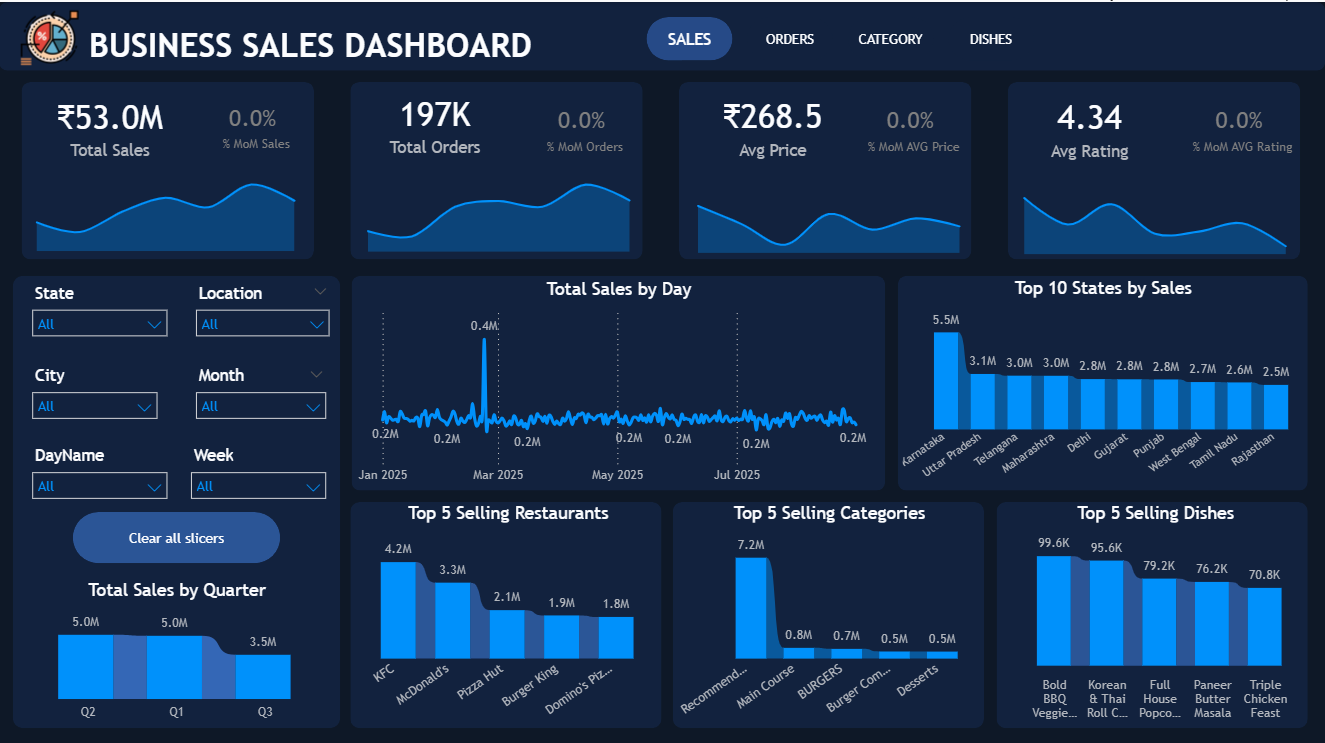

The dashboard page shown, as its layout file describes it:
{"tool":"powerbi","page":{"name":"SALES","canvas":[1280,720],"ordinal":0},"visuals":[{"type":"shape","box":[0,0,1280,66.4],"z":0},{"type":"shape","box":[21.7,77,282.3,171.3],"z":1000},{"type":"shape","box":[340.2,264.2,515.2,207.5],"z":2000},{"type":"shape","box":[867.4,264.2,395.7,207.5],"z":3000},{"type":"shape","box":[13.3,264.2,316.1,436.7],"z":4000},{"type":"shape","box":[339,77,282.3,171.3],"z":5000},{"type":"shape","box":[656.3,77,282.3,171.3],"z":6000},{"type":"shape","box":[973.6,77,282.3,171.3],"z":7000},{"type":"shape","box":[339,482.6,300.4,218.4],"z":8000},{"type":"shape","box":[650.9,482.6,300.4,218.4],"z":9000},{"type":"shape","box":[962.7,482.6,300.4,218.4],"z":10000},{"type":"card","fields":{"Values":["Sum(Business_sales_Data.Price)"]},"box":[21.7,77.2,171.3,85.7],"z":11000},{"type":"lineChart","fields":{"Y":["Business_sales_Data.Total Orders"],"Category":["Date_table.Week"]},"box":[341.5,160.3,282.3,85.7],"z":12000},{"type":"card","fields":{"Values":["Business_sales_Data.Total Orders"]},"box":[341.7,74.1,159.2,86.4],"z":13000},{"type":"lineChart","fields":{"Category":["Date_table.Week"],"Y":["Business_sales_Data.AVG PRICE"]},"box":[659.4,161.6,282.3,85.7],"z":14000},{"type":"card","fields":{"Values":["Business_sales_Data.AVG PRICE"]},"box":[660,75.5,174.3,86.4],"z":15000},{"type":"lineChart","fields":{"Y":["Avg(Business_sales_Data.Rating)"],"Category":["Date_table.Week"]},"box":[975.4,162.9,282.3,85.7],"z":16000},{"type":"card","fields":{"Values":["Business_sales_Data.AVG RATING"]},"box":[975.6,76.8,153.7,86.4],"z":17000},{"type":"card","fields":{"Values":["DAX Table.% MoM"]},"box":[193,77.2,111,84.5],"z":18000},{"type":"lineChart","fields":{"Category":["Date_table.Week"],"Y":["DAX Table.Total Sales"]},"box":[22,160.5,278.6,85.1],"z":19000},{"type":"card","fields":{"Values":["DAX Table.% MoM Orders"]},"box":[510.5,79.6,111.1,83.7],"z":20000},{"type":"card","fields":{"Values":["DAX Table.% MoM AVG Price"]},"box":[827.4,79.6,111.1,83.7],"z":21000},{"type":"card","fields":{"Values":["DAX Table.% MoM AVG Rating"]},"box":[1144.4,79.6,111.1,83.7],"z":22000},{"type":"textbox","box":[30.2,0,540.7,65.9],"z":23000},{"type":"image","box":[13.7,4.1,71.4,61.7],"z":24000},{"type":"columnChart","title":"Top 10 States by Sales","fields":{"Y":["DAX Table.Total Sales"],"Category":["Business_sales_Data.State"]},"box":[867.4,265.4,396.9,206.3],"z":25000},{"type":"lineChart","title":"Total Sales by Day","fields":{"Y":["DAX Table.Total Sales"],"Category":["Business_sales_Data.Order_Date"]},"box":[341.4,266.6,513.9,206.3],"z":26000},{"type":"slicer","fields":{"Values":["Business_sales_Data.Location"]},"box":[179.8,266.6,149.6,79.6],"z":27000},{"type":"columnChart","title":"Top 5 Selling Restaurants","fields":{"Y":["DAX Table.Total Sales"],"Category":["Business_sales_Data.Restaurant_Name"]},"box":[342.6,482.6,298,218.4],"z":28000},{"type":"columnChart","title":"Top 5 Selling Dishes","fields":{"Y":["DAX Table.Total Sales"],"Category":["Business_sales_Data.Dish_Name"]},"box":[967.4,483,297.8,218.2],"z":29000},{"type":"slicer","fields":{"Values":["Business_sales_Data.State"]},"box":[21.7,266.6,150.8,77.2],"z":30000},{"type":"columnChart","title":"Top 5 Selling Categories","fields":{"Y":["DAX Table.Total Sales"],"Category":["Business_sales_Data.Category"]},"box":[652.7,482.6,298,218.4],"z":31000},{"type":"pageNavigator","box":[624.9,14.5,376.4,42.2],"z":32000},{"type":"slicer","fields":{"Values":["Business_sales_Data.City"]},"box":[21.7,346.2,141.2,77.2],"z":33000},{"type":"columnChart","title":"Total Sales by Quarter","fields":{"Y":["DAX Table.Total Sales"],"Category":["Date_table.Quarter"]},"box":[18.1,557.4,307.6,143.6],"z":34000},{"type":"slicer","fields":{"Values":["Date_table.DayName"]},"box":[21.7,423.5,150.8,77.2],"z":35000},{"type":"slicer","fields":{"Values":["Date_table.Month"]},"box":[179.8,346.2,146,77.2],"z":36000},{"type":"slicer","fields":{"Values":["Date_table.Week"]},"box":[174.9,423.5,150.8,77.2],"z":37000},{"type":"actionButton","box":[71.2,492.2,200.3,49.5],"z":38000}]}

Visuals, with their boxes in screenshot pixels (x1, y1, x2, y2), scaled from the page's 1280x720 canvas onto the 1325x743 screenshot:
shape: bbox(0, 0, 1324, 69)
shape: bbox(22, 79, 315, 256)
shape: bbox(352, 273, 885, 487)
shape: bbox(898, 273, 1308, 487)
shape: bbox(14, 273, 341, 723)
shape: bbox(351, 79, 643, 256)
shape: bbox(679, 79, 972, 256)
shape: bbox(1008, 79, 1300, 256)
shape: bbox(351, 498, 662, 723)
shape: bbox(674, 498, 985, 723)
shape: bbox(997, 498, 1308, 723)
card - Sum(Business_sales_Data.Price): bbox(22, 80, 200, 168)
lineChart - Business_sales_Data.Total Orders x Date_table.Week: bbox(354, 165, 646, 254)
card - Business_sales_Data.Total Orders: bbox(354, 76, 519, 166)
lineChart - Date_table.Week x Business_sales_Data.AVG PRICE: bbox(683, 167, 975, 255)
card - Business_sales_Data.AVG PRICE: bbox(683, 78, 864, 167)
lineChart - Avg(Business_sales_Data.Rating) x Date_table.Week: bbox(1010, 168, 1302, 257)
card - Business_sales_Data.AVG RATING: bbox(1010, 79, 1169, 168)
card - DAX Table.% MoM: bbox(200, 80, 315, 167)
lineChart - Date_table.Week x DAX Table.Total Sales: bbox(23, 166, 311, 253)
card - DAX Table.% MoM Orders: bbox(528, 82, 643, 169)
card - DAX Table.% MoM AVG Price: bbox(856, 82, 971, 169)
card - DAX Table.% MoM AVG Rating: bbox(1185, 82, 1300, 169)
textbox: bbox(31, 0, 591, 68)
image: bbox(14, 4, 88, 68)
"Top 10 States by Sales" columnChart: bbox(898, 274, 1309, 487)
"Total Sales by Day" lineChart: bbox(353, 275, 885, 488)
slicer - Business_sales_Data.Location: bbox(186, 275, 341, 357)
"Top 5 Selling Restaurants" columnChart: bbox(355, 498, 663, 723)
"Top 5 Selling Dishes" columnChart: bbox(1001, 498, 1310, 724)
slicer - Business_sales_Data.State: bbox(22, 275, 179, 355)
"Top 5 Selling Categories" columnChart: bbox(676, 498, 984, 723)
pageNavigator: bbox(647, 15, 1037, 59)
slicer - Business_sales_Data.City: bbox(22, 357, 169, 437)
"Total Sales by Quarter" columnChart: bbox(19, 575, 337, 723)
slicer - Date_table.DayName: bbox(22, 437, 179, 517)
slicer - Date_table.Month: bbox(186, 357, 337, 437)
slicer - Date_table.Week: bbox(181, 437, 337, 517)
actionButton: bbox(74, 508, 281, 559)
